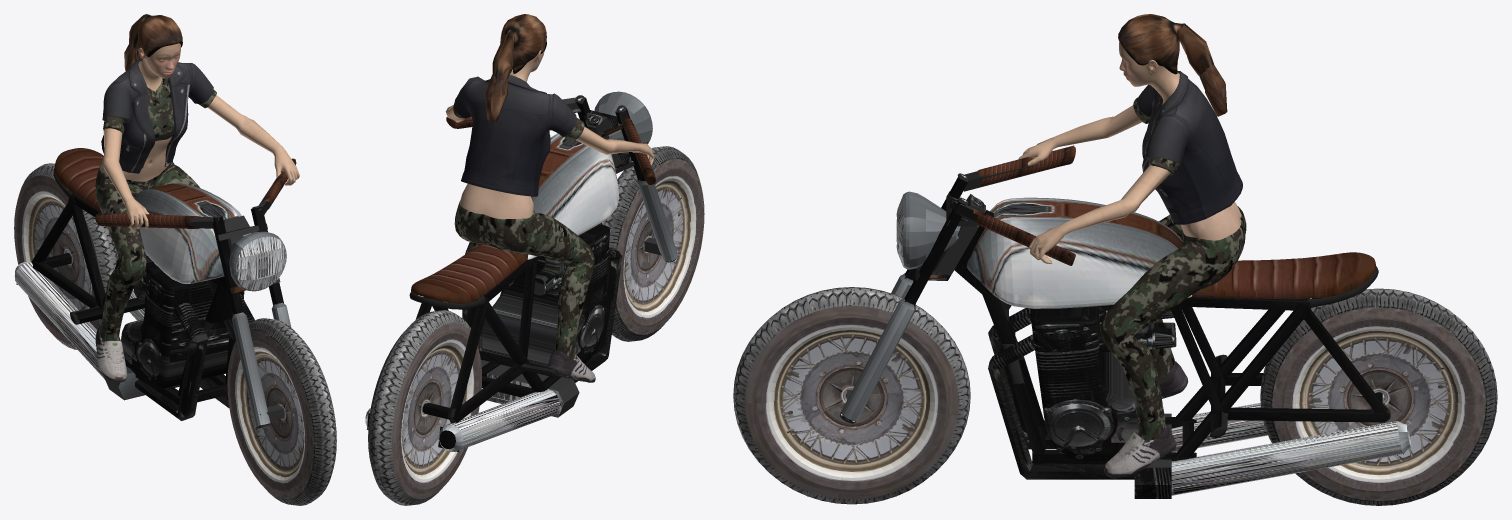
The picture shows the model from 3 angles, left to right: view 1: azimuth 30°, elevation 25°; view 2: azimuth 150°, elevation 25°; view 3: azimuth 270°, elevation 25°; orthographic projection. The views are drawn at different scales.
Parts seen in each view (by area): view 1: Frame_0, Shirt_4, tireShape1_1, tireShape2_2, Body_3; view 2: Frame_0, Shirt_4, tireShape2_2, tireShape1_1, Body_3; view 3: Frame_0, tireShape1_1, tireShape2_2, Shirt_4, Body_3.
Boxes of the visible parts, left/top/right/bottom form: Frame_0: left=14, top=148, right=296, bottom=428; Shirt_4: left=95, top=14, right=216, bottom=382; tireShape1_1: left=227, top=318, right=336, bottom=505; tireShape2_2: left=14, top=163, right=118, bottom=349; Body_3: left=100, top=43, right=299, bottom=230; Frame_0: left=365, top=91, right=677, bottom=451; Shirt_4: left=453, top=14, right=595, bottom=382; tireShape2_2: left=368, top=310, right=481, bottom=505; tireShape1_1: left=599, top=146, right=704, bottom=341; Body_3: left=445, top=50, right=654, bottom=219; Frame_0: left=840, top=145, right=1411, bottom=498; tireShape1_1: left=733, top=287, right=970, bottom=504; tireShape2_2: left=1260, top=288, right=1497, bottom=505; Shirt_4: left=1100, top=14, right=1246, bottom=478; Body_3: left=1018, top=42, right=1241, bottom=264.
Bounding box in the file's own units: 0.8562 × 1.61 × 2.29.
4 materials, 4 textured.
